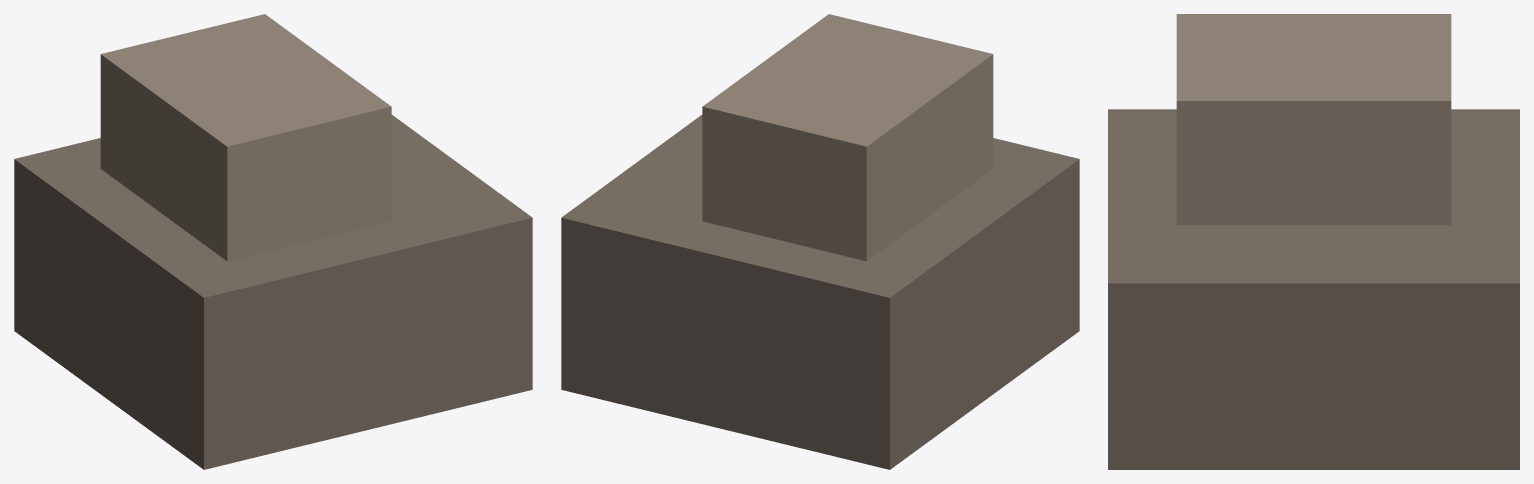
File: tina_curtido_desgastada_01.glb
The picture shows the model from 3 angles, left to right: view 1: azimuth 30°, elevation 25°; view 2: azimuth 150°, elevation 25°; view 3: azimuth 270°, elevation 25°; orthographic projection. The views are drawn at different scales.
Visible parts, largest first — view 1: tina_curtido_desgastada; view 2: tina_curtido_desgastada; view 3: tina_curtido_desgastada.
Boxes of the visible parts, left/top/right/bottom form: tina_curtido_desgastada: left=14, top=14, right=532, bottom=469; tina_curtido_desgastada: left=561, top=14, right=1079, bottom=469; tina_curtido_desgastada: left=1108, top=14, right=1519, bottom=469.
Bounding box in the file's own units: 0.6 × 0.5 × 0.6.
